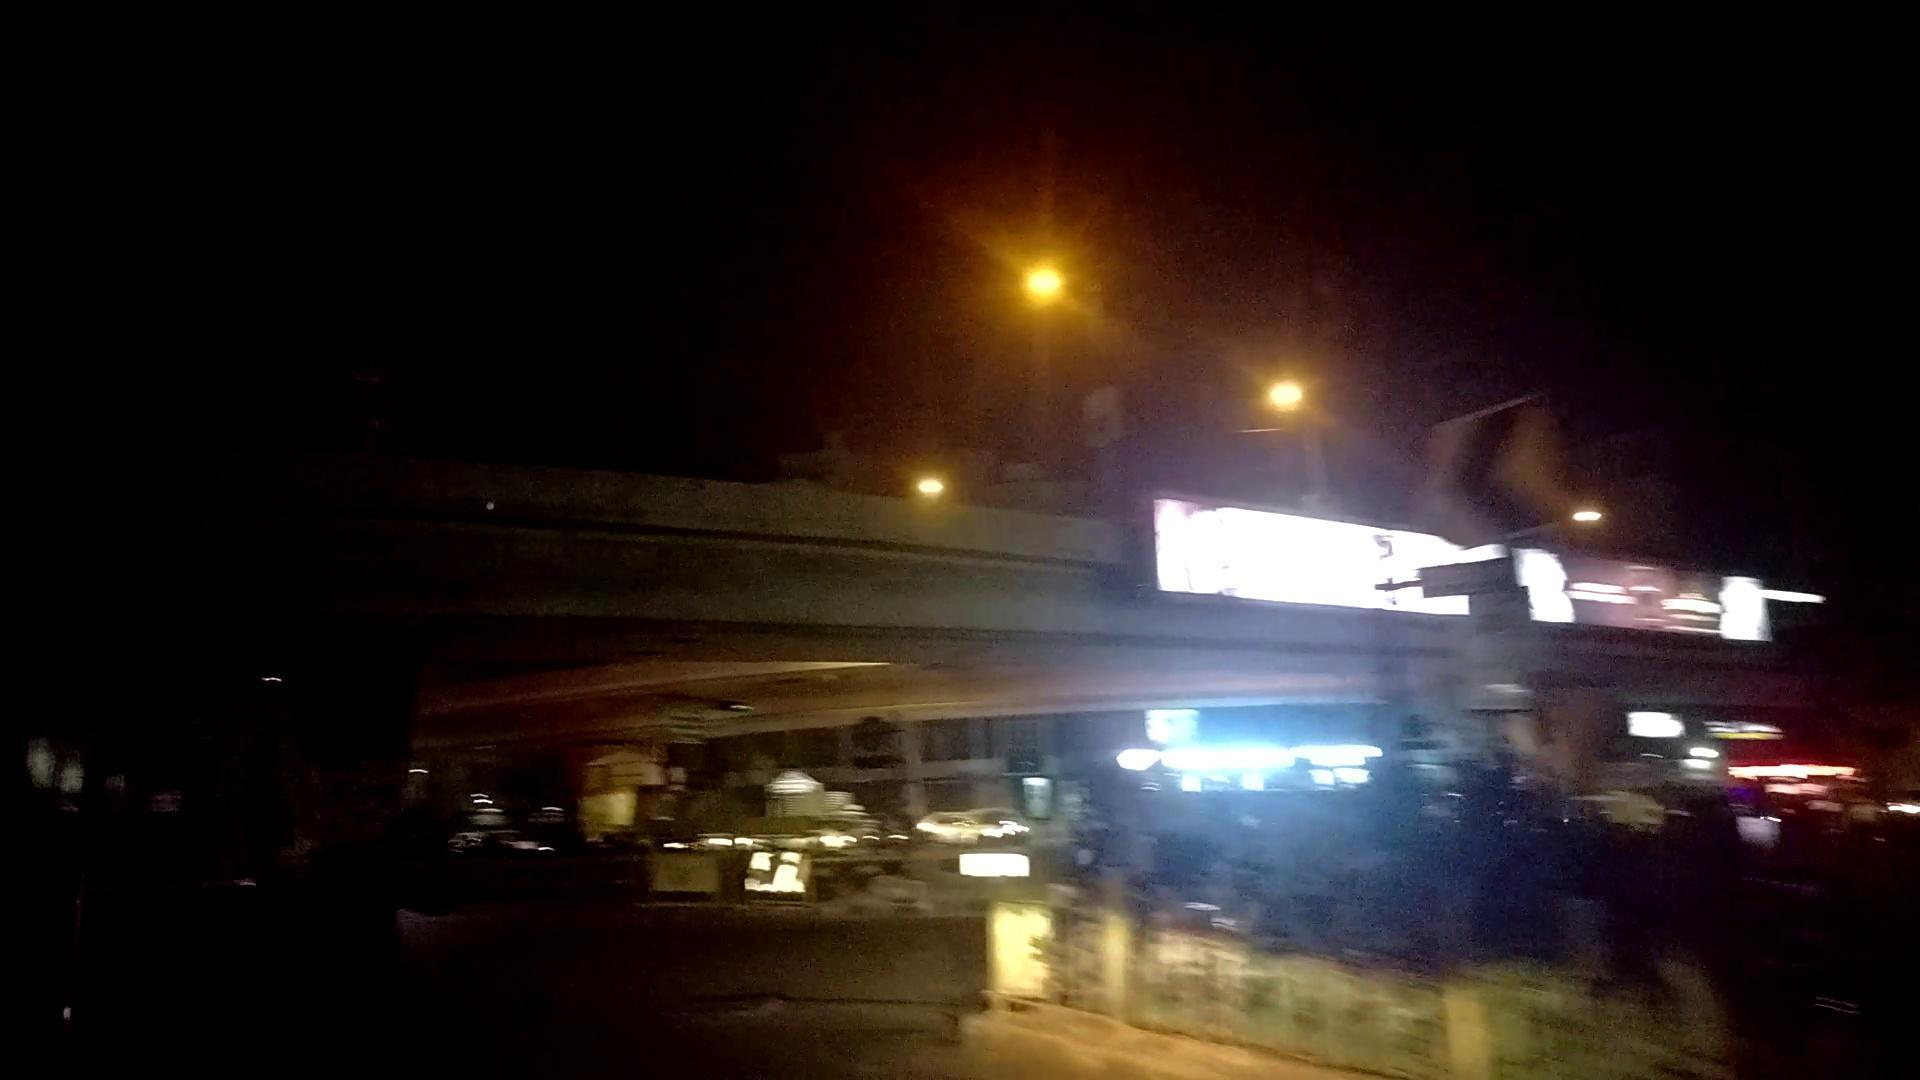on: (120, 82, 1895, 1080)
